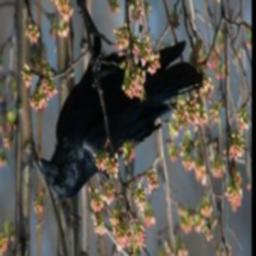Crow: (31, 0, 200, 206)
